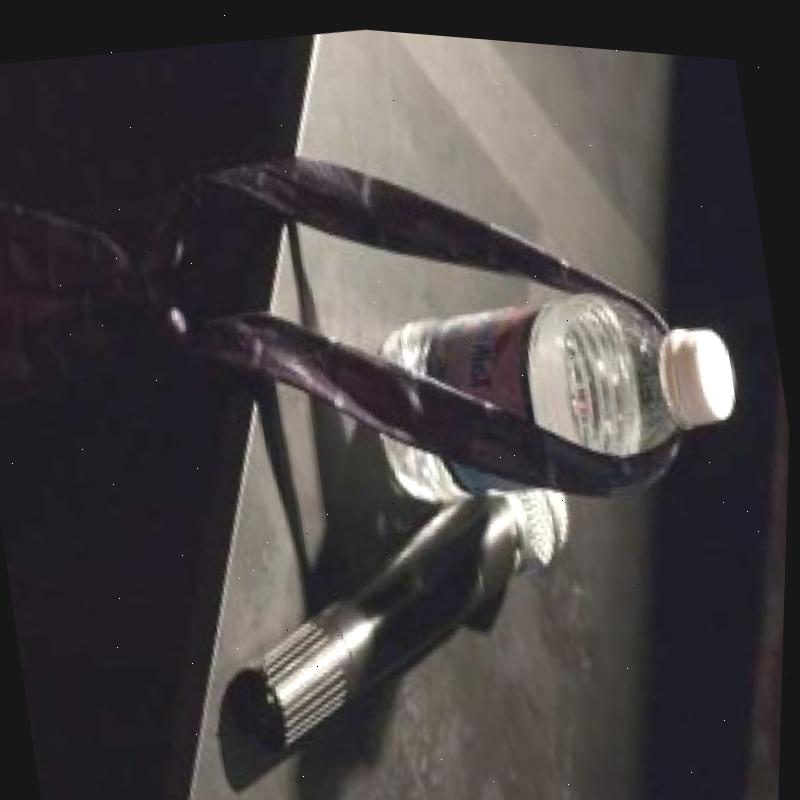botella: (353, 253, 753, 514)
